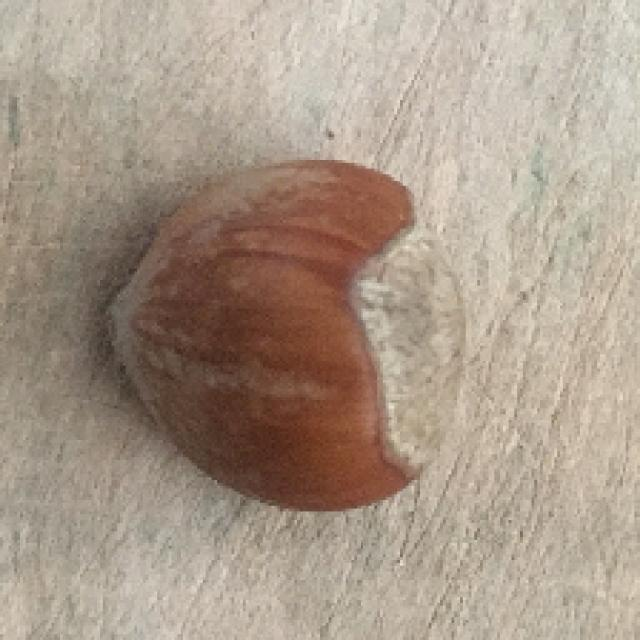qualityHazelnut: (113, 158, 466, 521)
